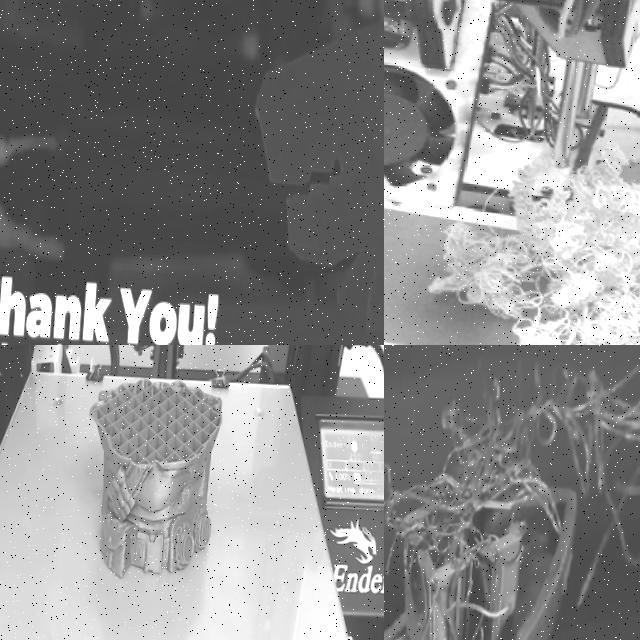spaghetti: (426, 139, 640, 345)
